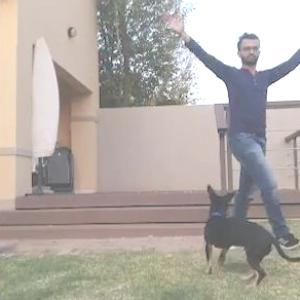takeoff: (145, 19, 299, 250)
